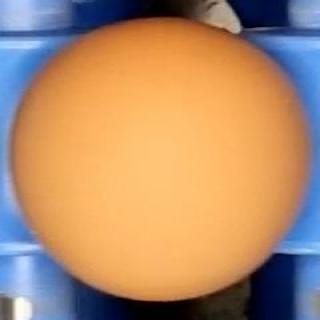Telur: (12, 15, 310, 299)
